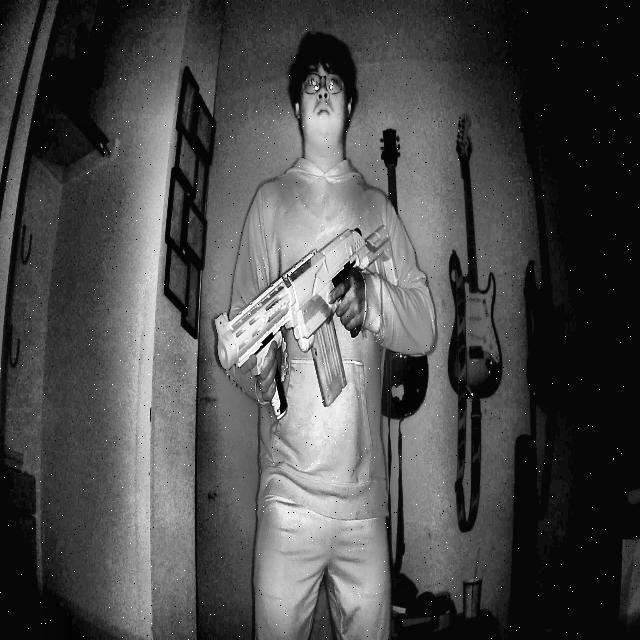Nerf_Blaster: (209, 222, 412, 456)
